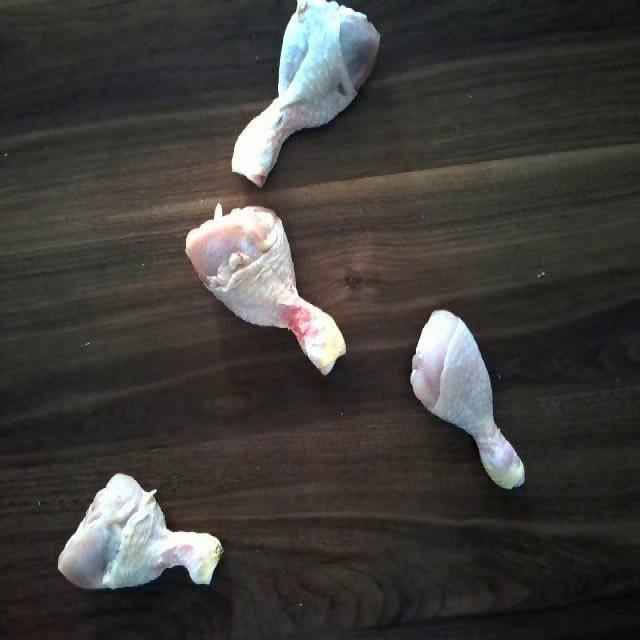leg: (166, 198, 352, 384), (220, 0, 390, 190), (399, 302, 532, 496), (48, 468, 220, 590)
